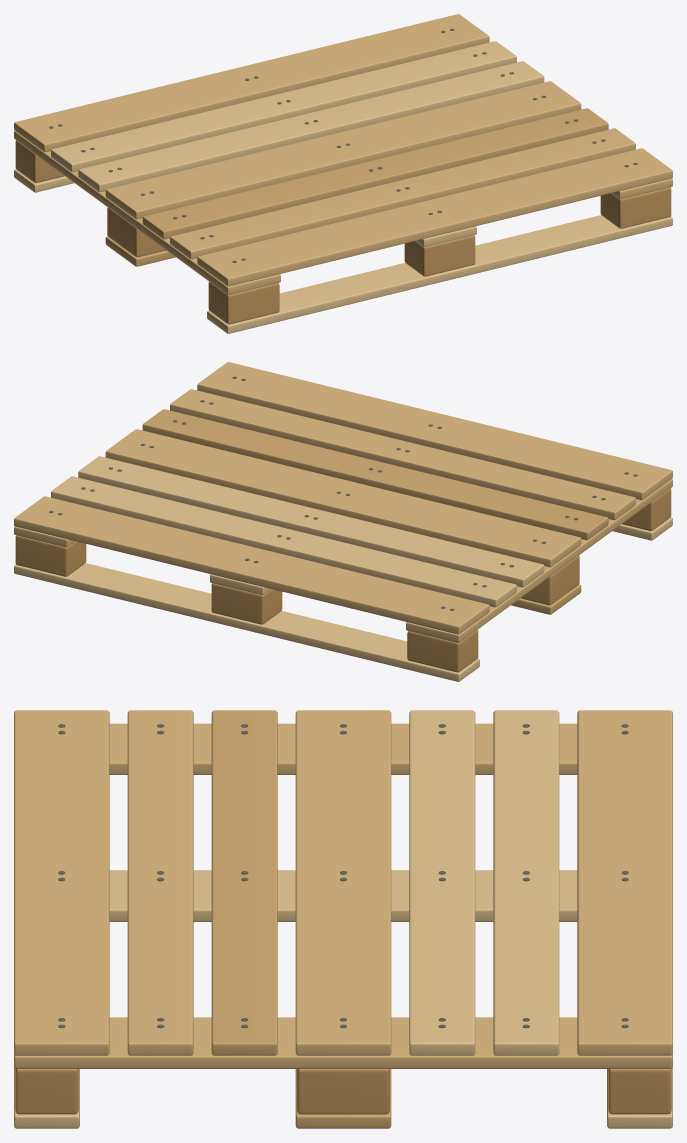
Rendered from pallet_pine.glb.
3 renders of one model, top to bottom at view 1: azimuth 30°, elevation 25°; view 2: azimuth 150°, elevation 25°; view 3: azimuth 270°, elevation 25°, orthographic. The views are drawn at different scales.
Parts seen in each view (by area): view 1: pallet_geo; view 2: pallet_geo; view 3: pallet_geo.
Boxes of the visible parts, x1=… form: pallet_geo: x1=14, y1=14, x2=672, y2=333; pallet_geo: x1=14, y1=362, x2=672, y2=681; pallet_geo: x1=14, y1=710, x2=672, y2=1128.
Size of the model in its own units: 1.2 by 0.1452 by 1.
